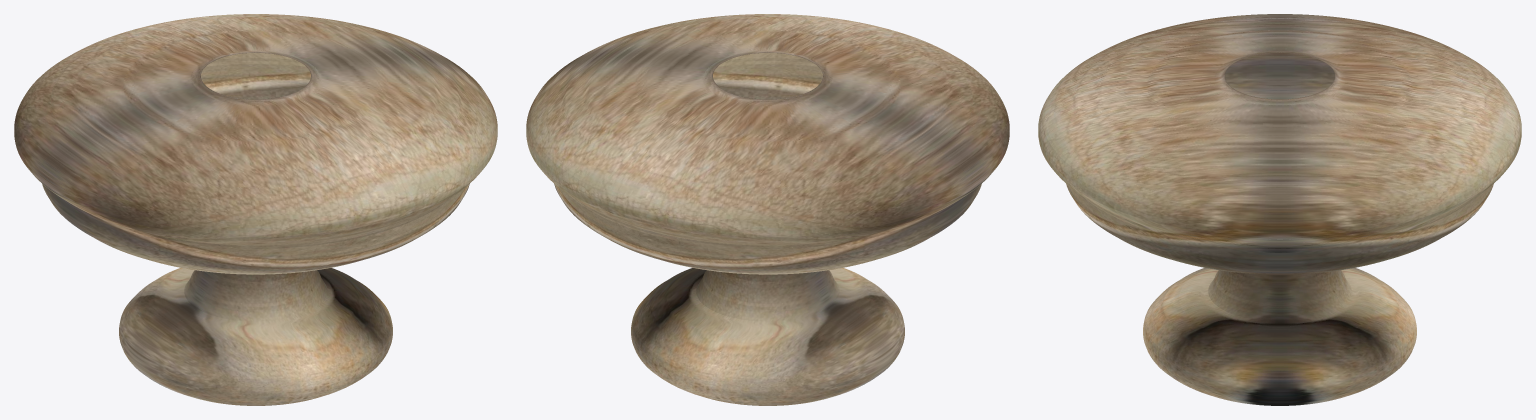
Rendered from cma-97661.glb.
3 views of the same model, side by side, from view 1: azimuth 30°, elevation 25°; view 2: azimuth 150°, elevation 25°; view 3: azimuth 270°, elevation 25° (orthographic).
Visible parts, largest first — view 1: geometry_0; view 2: geometry_0; view 3: geometry_0.
Boxes of the visible parts, x1,y1,x2,y2 form: geometry_0: (14,14,497,405); geometry_0: (526,14,1009,405); geometry_0: (1038,14,1521,405).
Size of the model in its own units: 43.79 by 30 by 43.79.
1 material, 1 textured.
